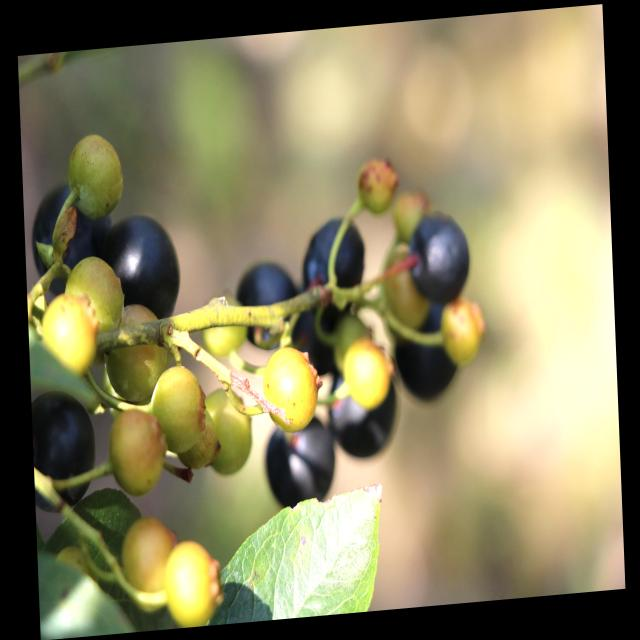blueberry: (28, 174, 118, 302), (92, 206, 185, 329), (326, 348, 408, 466), (260, 404, 340, 523), (391, 289, 466, 414), (31, 382, 99, 516), (230, 252, 309, 354), (296, 210, 370, 316), (285, 276, 358, 383), (405, 204, 476, 308)
blueberry-unripe: (99, 293, 167, 402), (117, 510, 183, 613), (162, 533, 222, 629), (67, 250, 124, 343), (262, 344, 319, 433), (66, 128, 121, 220), (40, 291, 94, 375), (150, 364, 204, 448), (204, 385, 252, 479), (107, 414, 164, 493), (341, 337, 390, 412), (199, 288, 245, 362), (442, 297, 486, 363), (176, 412, 216, 469), (358, 156, 397, 213)
